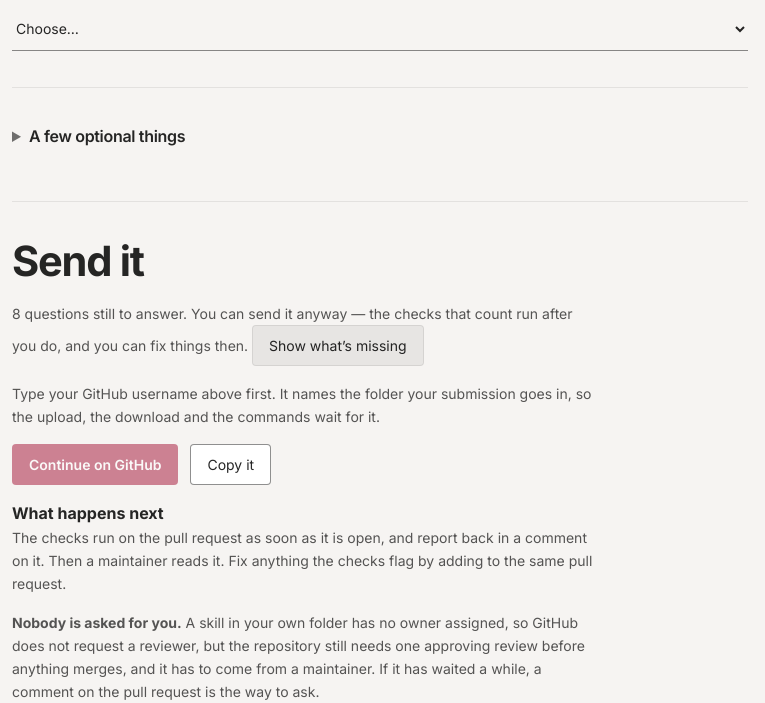
the status line agrees with what is on screen › has a button that shows what is missing, and then says 'marked above'
(page scrolled)
Click the button "Show what’s missing": coordinates (338, 345) top-left (252, 325), bottom-right (424, 366)
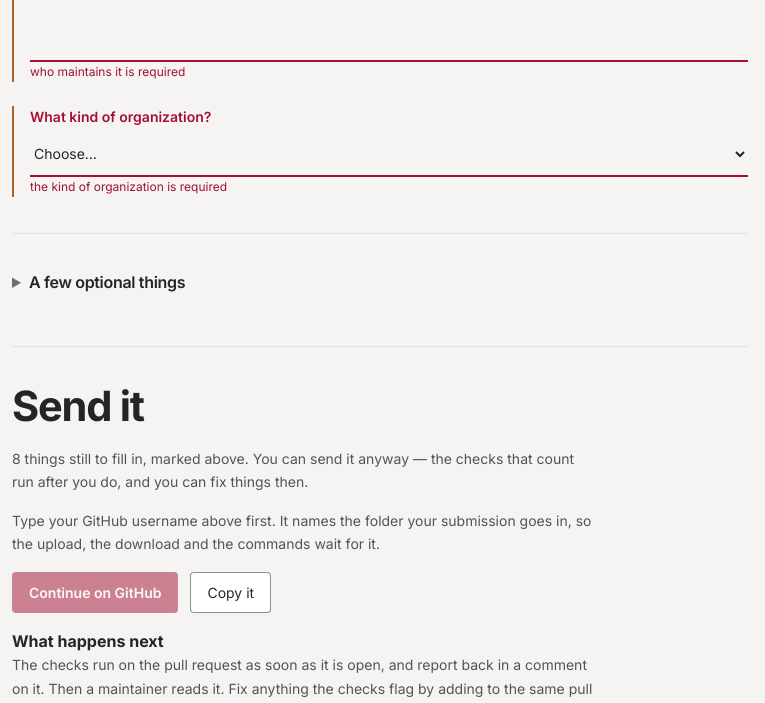
Now the text with test id "status" shows "marked above", box top-left (12, 450), bottom-right (574, 490)
Now the button "show what.s missing" is gone
